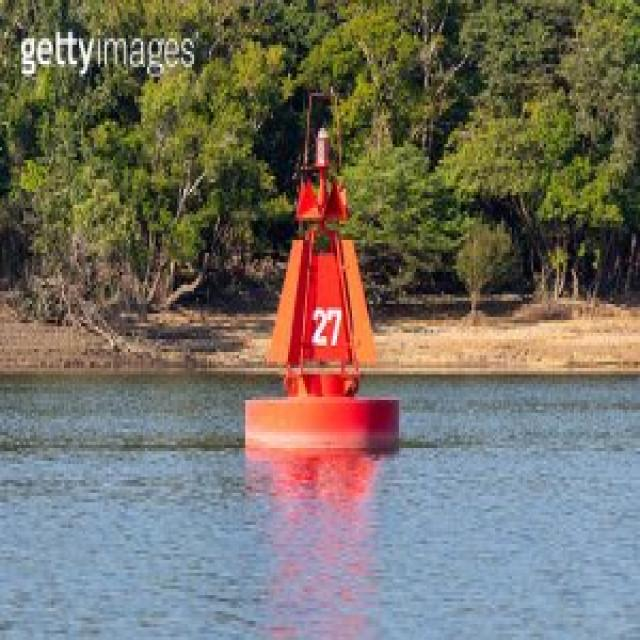marque: (224, 80, 412, 471)
